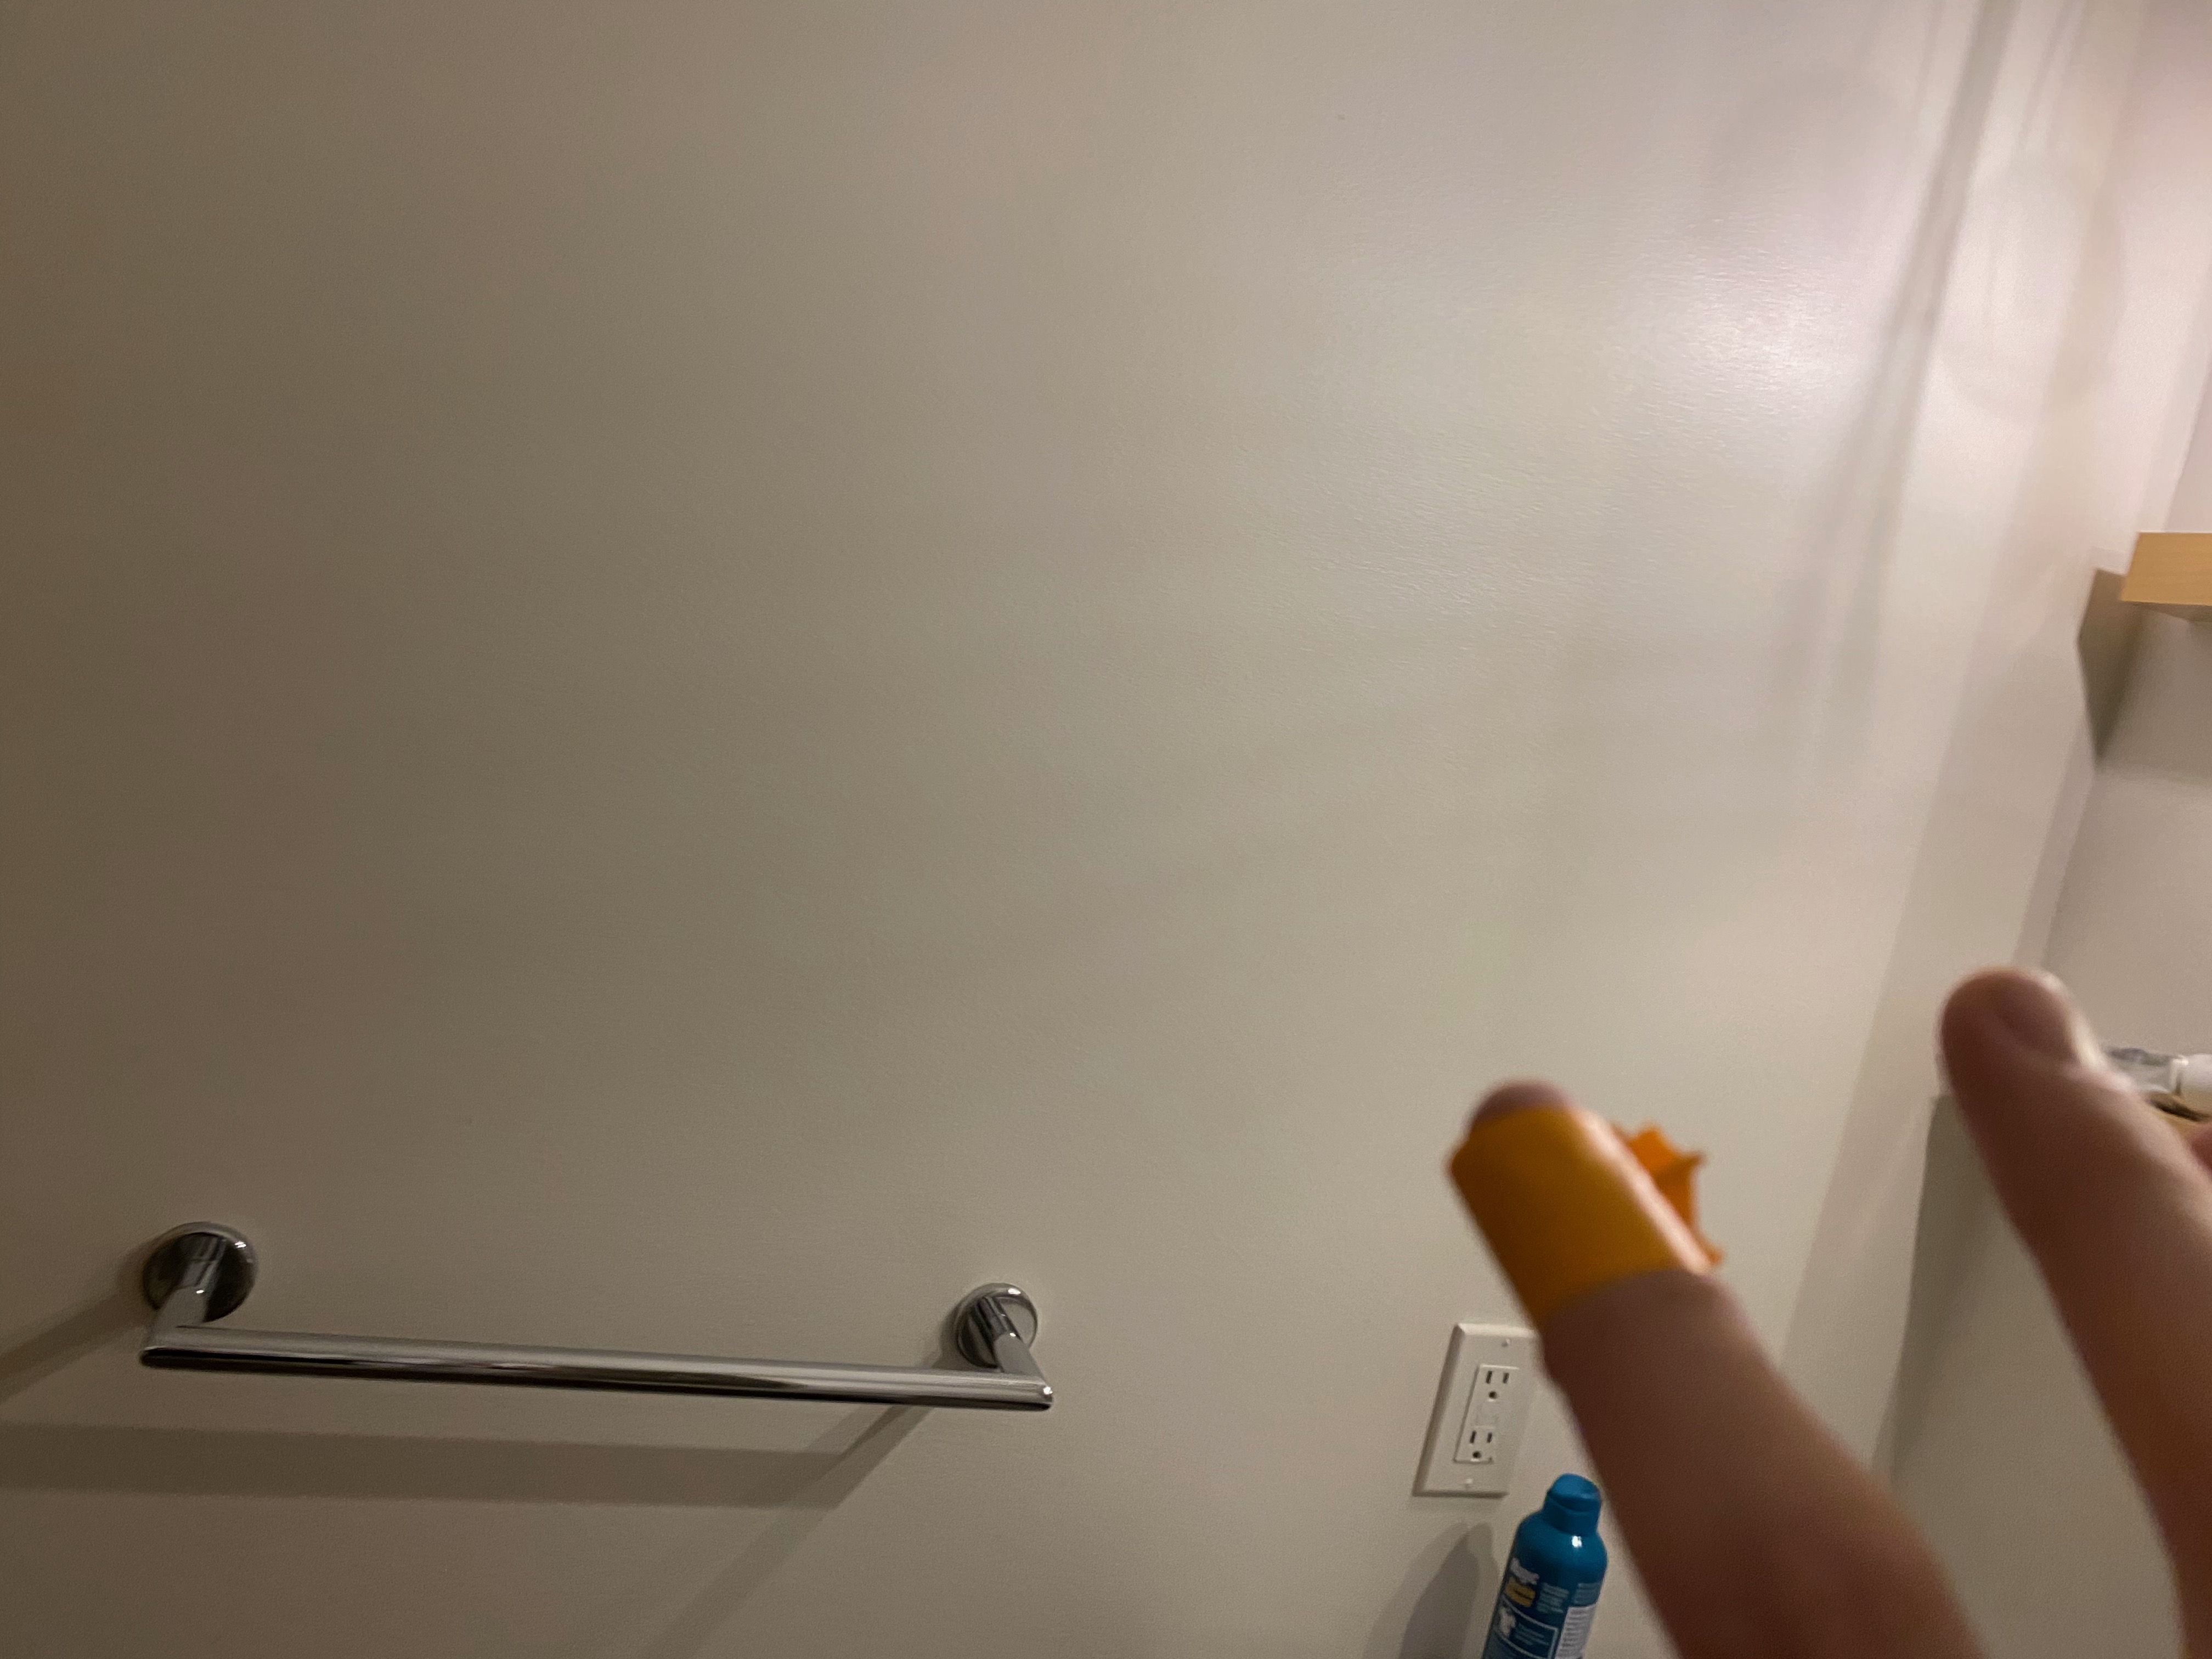fingertip: (1402, 1065, 1796, 1358)
